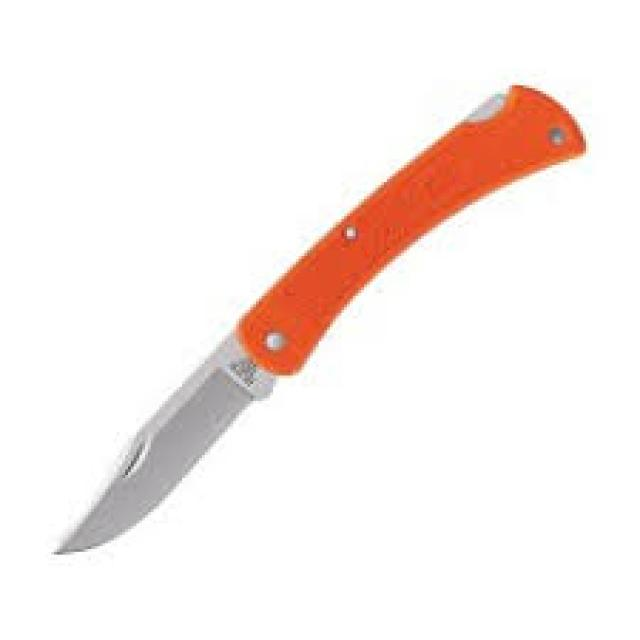knife: (41, 80, 599, 563)
